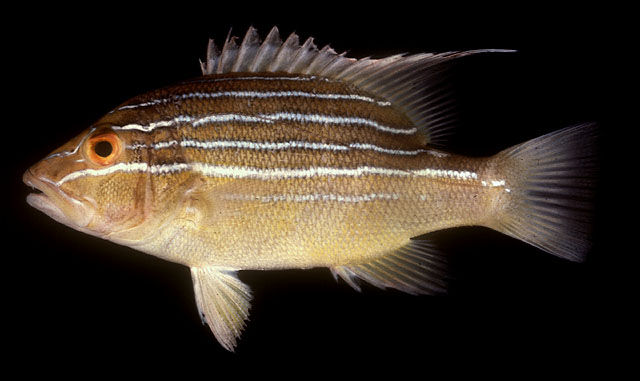fish: (23, 24, 584, 354)
